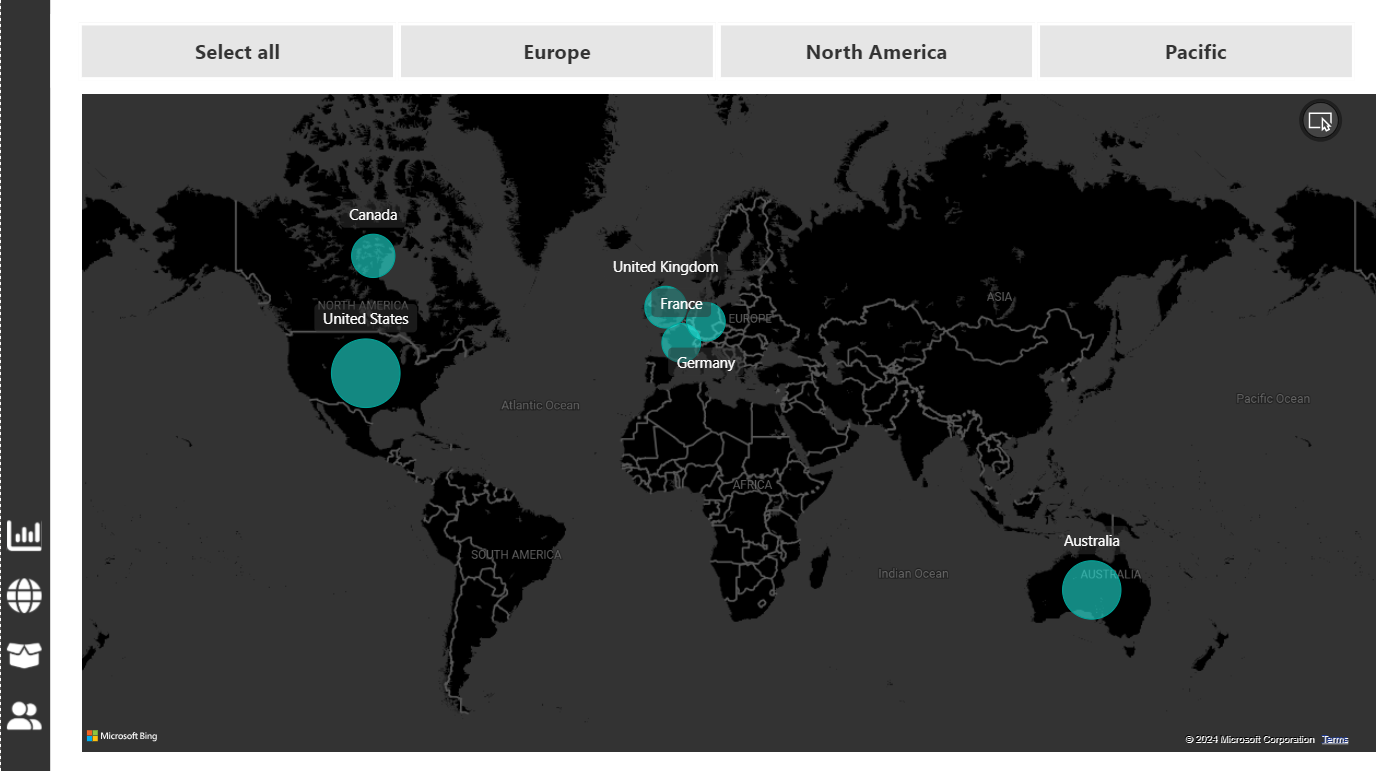

The page's visual inventory and layout, read from the dashboard file:
{"tool":"powerbi","page":{"name":"Map","canvas":[1280,720],"ordinal":1},"visuals":[{"type":"shape","box":[0,0,45,720],"z":0},{"type":"actionButton","box":[1,480.3,45.3,39.8],"z":1000,"group":"g1"},{"type":"map","fields":{"Category":["Territory Lookup.Country"],"Size":["Measure Table.Total Orders"]},"box":[68.3,90.1,1193.7,612.1],"z":1000},{"type":"slicer","fields":{"Values":["Territory Lookup.Continent"]},"box":[45.1,23.3,1217,66.9],"z":2000},{"type":"actionButton","box":[1,535.2,45.3,39.8],"z":2000,"group":"g1"},{"type":"actionButton","box":[1,590.1,45.3,39.8],"z":3000,"group":"g1"},{"type":"group","id":"g1","title":"Navigation Buttons","box":[1,480.3,45.3,204.5],"z":3000},{"type":"actionButton","box":[1,645,45.3,39.8],"z":4000,"group":"g1"}]}

Visuals, with their boxes on the page's 1280x720 design canvas (x1, y1, x2, y2). These are canvas units, not pixel positions in the 1387x771 screenshot, which may show the page scaled, cropped or inside an application window:
shape: [left=0, top=0, right=45, bottom=720]
actionButton: [left=1, top=480, right=46, bottom=520]
map - Territory Lookup.Country x Measure Table.Total Orders: [left=68, top=90, right=1262, bottom=702]
slicer - Territory Lookup.Continent: [left=45, top=23, right=1262, bottom=90]
actionButton: [left=1, top=535, right=46, bottom=575]
actionButton: [left=1, top=590, right=46, bottom=630]
"Navigation Buttons" group: [left=1, top=480, right=46, bottom=685]
actionButton: [left=1, top=645, right=46, bottom=685]
